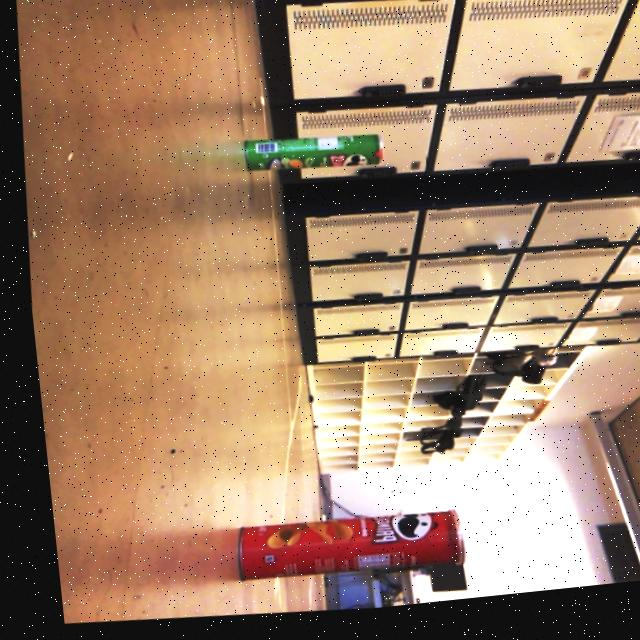greenpringles: (216, 90, 408, 202)
redpringles: (190, 491, 479, 605)
